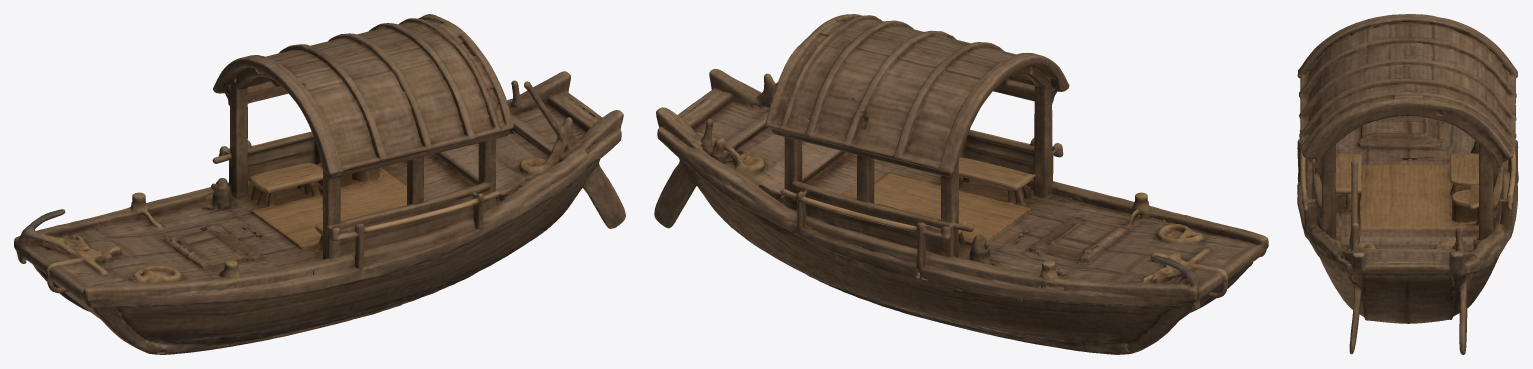
The model's file is covered-boat.glb.
The picture shows the model from 3 angles, left to right: view 1: azimuth 30°, elevation 25°; view 2: azimuth 150°, elevation 25°; view 3: azimuth 270°, elevation 25°; orthographic projection. The views are drawn at different scales.
Parts seen in each view (by area): view 1: world; view 2: world; view 3: world.
Boxes of the visible parts, left/top/right/bottom form: world: left=14, top=14, right=625, bottom=354; world: left=654, top=14, right=1268, bottom=354; world: left=1297, top=14, right=1518, bottom=354.
Bounding box in the file's own units: 0.45 × 0.1875 × 0.1696.
Materials: 1 (1 with a texture image).
